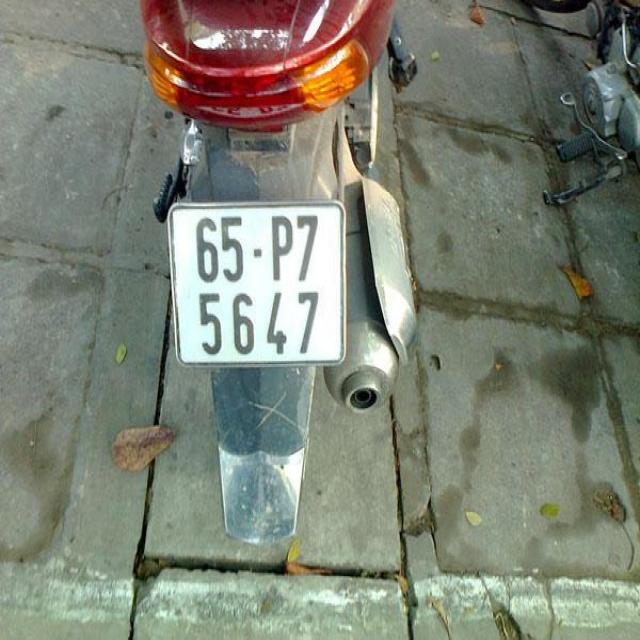License-Plates: (174, 196, 346, 373)
